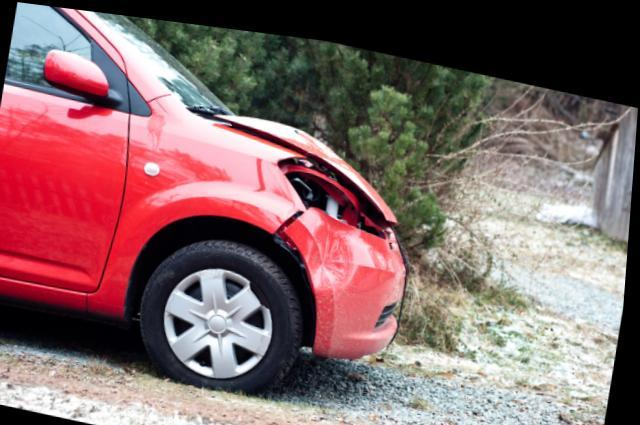dent: (310, 215, 355, 282)
dislocated part: (277, 199, 411, 344)
no part: (283, 150, 389, 229)
tire flat: (144, 230, 305, 388)
